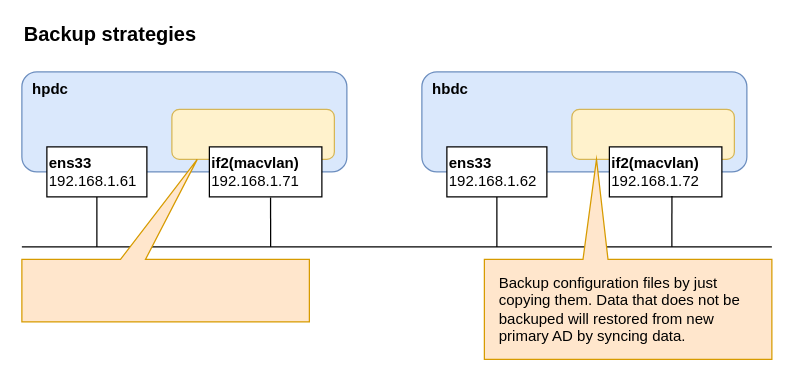
Some shapes in this 795 by 381 pixel diagram are drawn without their labels. The centre of each missing label's shape, as x and y in pixels:
Backup data and configuration files with "samba-tool".: (165,240)
bdc01: (652,133)
pdc01: (252,133)
